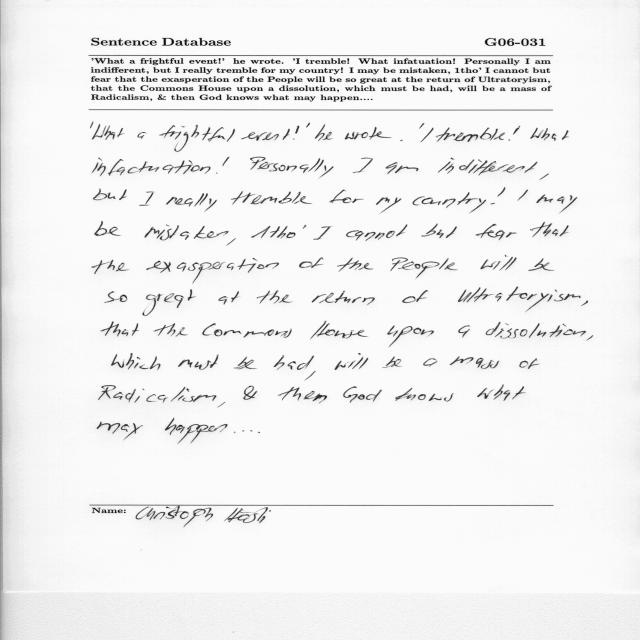word: (146, 258, 279, 284), (458, 287, 581, 312), (93, 158, 211, 177), (99, 385, 216, 403), (159, 125, 235, 152), (438, 158, 537, 176), (250, 157, 334, 178), (165, 418, 227, 444), (486, 322, 586, 338), (278, 372, 327, 404), (413, 192, 486, 213), (142, 289, 196, 316), (391, 258, 458, 279), (202, 323, 292, 338), (145, 225, 229, 240), (231, 191, 312, 205), (346, 225, 408, 242), (310, 321, 368, 339), (436, 127, 505, 142), (387, 326, 434, 347), (166, 193, 217, 212), (312, 291, 375, 305), (241, 126, 299, 141), (112, 354, 161, 371), (97, 422, 143, 440), (477, 384, 525, 401), (537, 194, 578, 213), (252, 225, 307, 239), (396, 388, 454, 401), (475, 224, 517, 240), (343, 386, 382, 403), (178, 354, 219, 370), (450, 356, 499, 369), (345, 127, 392, 140), (274, 355, 314, 370), (102, 321, 139, 337), (530, 222, 569, 237), (481, 255, 517, 271), (421, 224, 457, 239), (92, 124, 125, 140), (92, 260, 129, 274), (530, 128, 569, 141), (337, 258, 373, 272), (257, 290, 293, 304), (329, 190, 364, 204), (154, 323, 188, 337), (376, 197, 401, 213), (386, 162, 419, 174), (95, 221, 121, 236), (93, 189, 127, 200), (528, 258, 554, 271), (402, 290, 428, 303), (348, 353, 369, 369), (353, 158, 373, 173), (218, 291, 239, 305), (234, 357, 257, 369), (313, 226, 332, 240), (299, 257, 323, 268), (105, 291, 127, 303), (491, 188, 506, 205), (216, 157, 230, 174), (383, 356, 402, 368), (519, 358, 539, 369), (140, 192, 155, 206), (244, 385, 258, 400), (421, 128, 434, 143), (509, 126, 521, 141), (315, 124, 325, 141), (458, 325, 470, 338), (213, 427, 235, 433), (423, 358, 437, 367), (518, 190, 528, 201), (335, 360, 346, 370), (323, 132, 333, 140), (226, 238, 236, 246), (137, 132, 147, 139), (539, 174, 549, 180), (581, 301, 588, 306), (586, 336, 593, 341), (218, 402, 225, 407), (420, 123, 425, 129), (306, 123, 310, 128), (91, 123, 93, 128), (243, 430, 245, 432), (400, 140, 403, 141)
